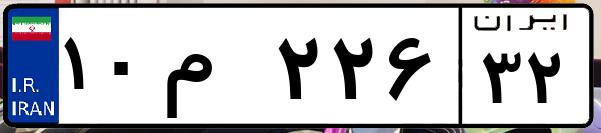0: (110, 28, 158, 98)
1: (57, 26, 110, 100)
2: (270, 28, 330, 110), (330, 28, 385, 110), (525, 38, 570, 115)
3: (475, 38, 525, 113)
6: (385, 28, 445, 110)
م: (158, 20, 270, 120)
